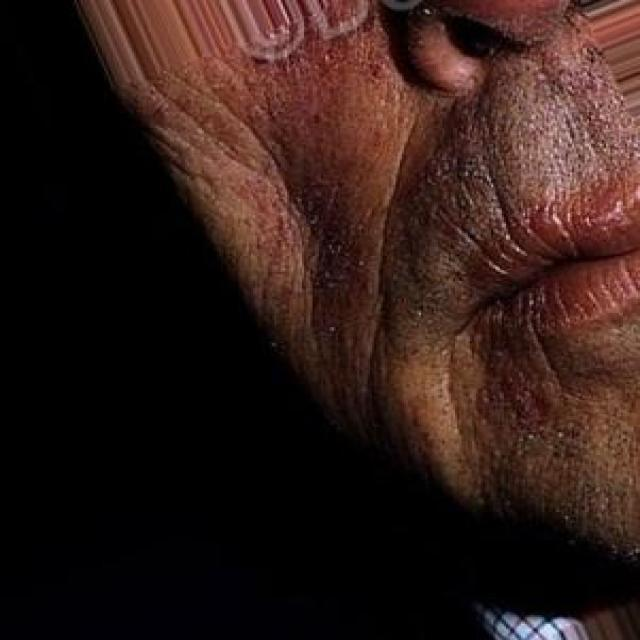Rosacea: (269, 47, 393, 320)
